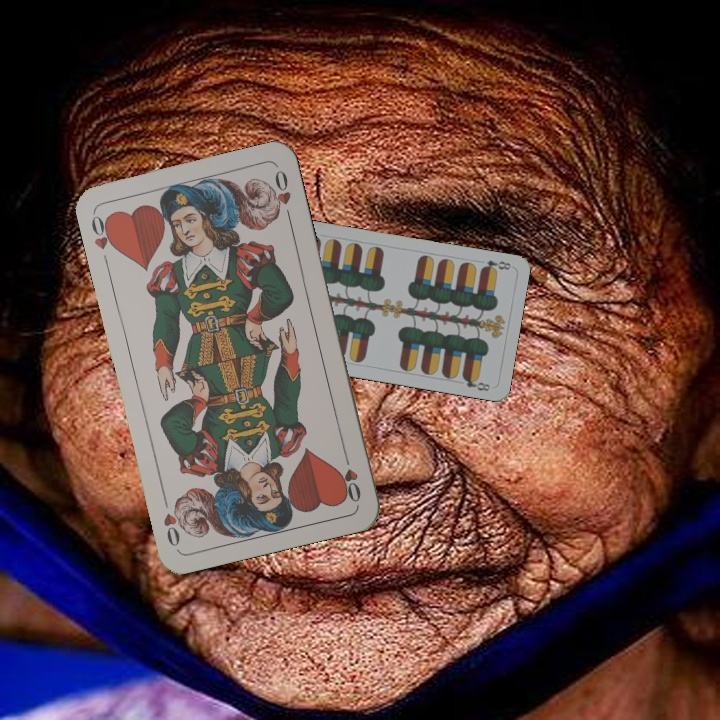E8: (477, 256, 513, 275)
HO: (336, 447, 364, 505), (87, 209, 120, 254)
